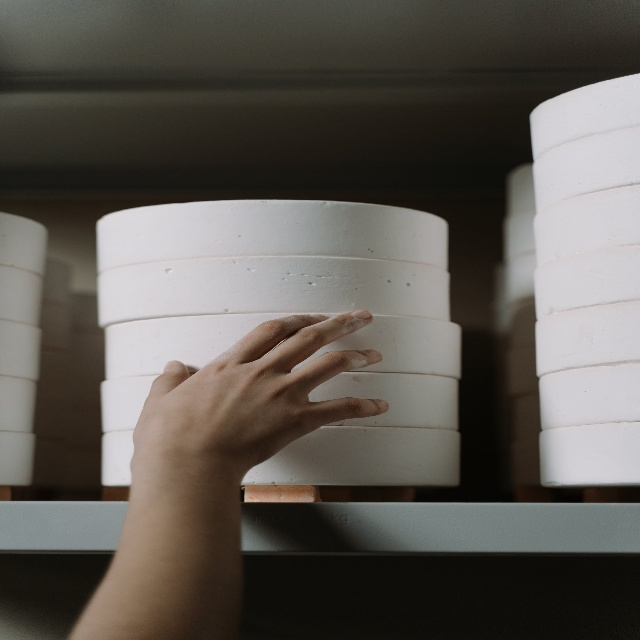Sin_guantes: (130, 309, 390, 482)
